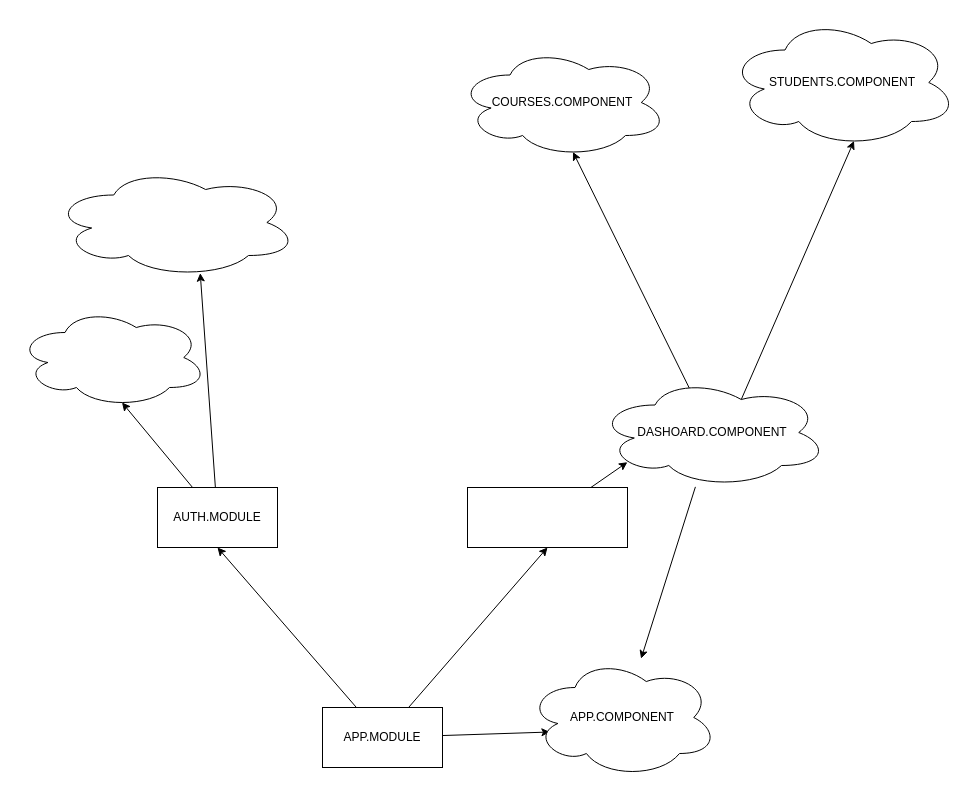
Image size: 975x795. Some labels were removed from this diagram. The centre of each missing label's shape, as x and y in pixels:
"DASHBOARD.MODULE" belongs at point (547, 517).
"LOGIN.COMPONENT" belongs at point (112, 357).
"REGISTER.COMPONENT" belongs at point (175, 222).
